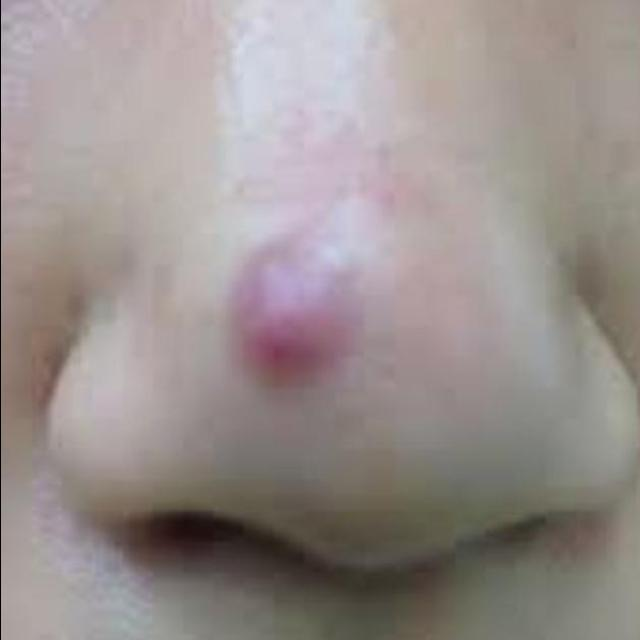nodule: (220, 193, 367, 428)
